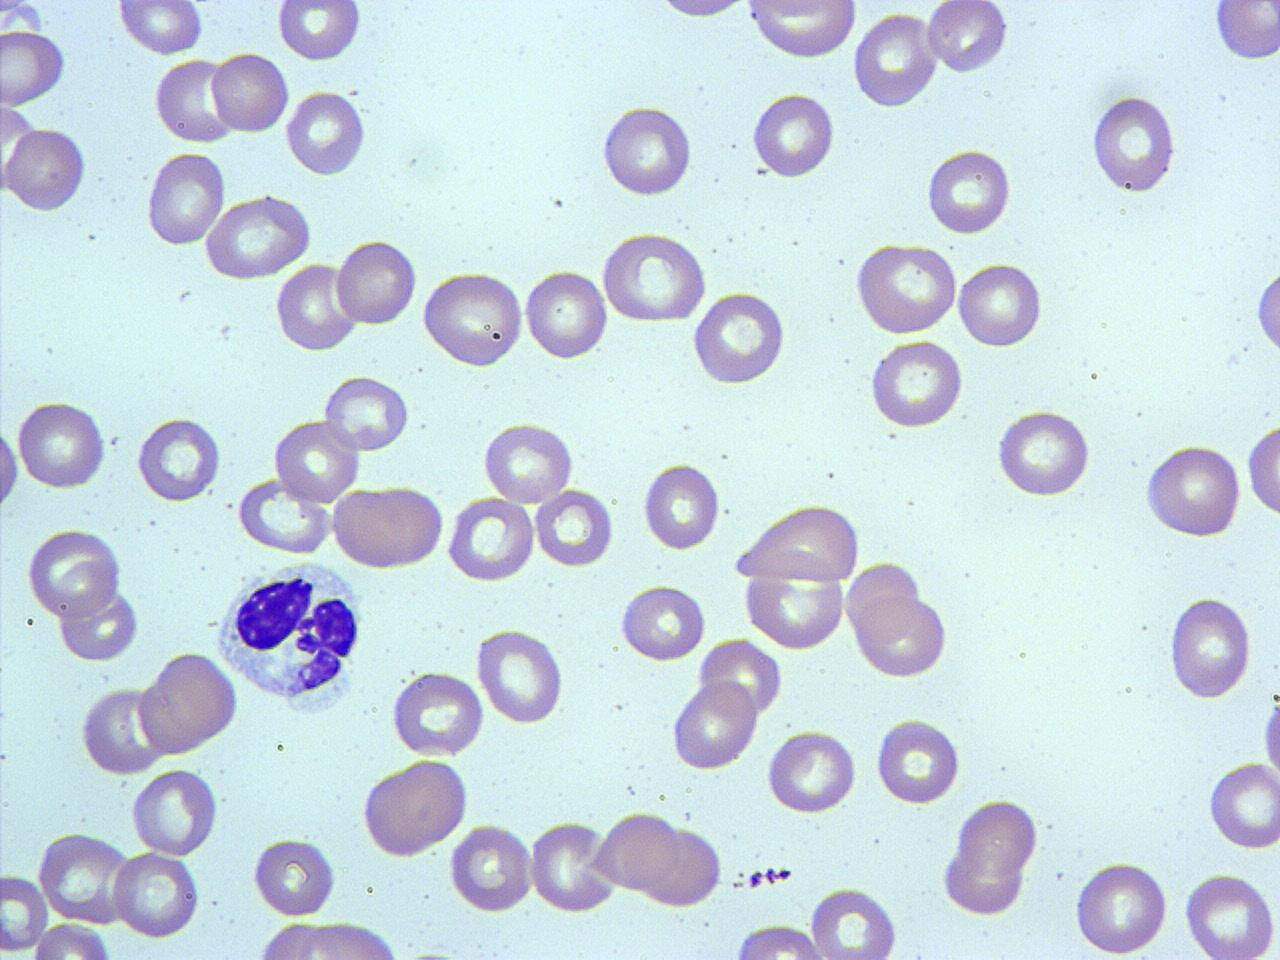Platelets: (403, 940, 464, 960)
RBC: (360, 757, 471, 860), (418, 269, 526, 373), (740, 550, 850, 651), (136, 651, 240, 757), (1140, 440, 1244, 542), (852, 241, 960, 338), (600, 230, 709, 326), (331, 482, 448, 570), (748, 501, 862, 588), (1071, 858, 1171, 957), (203, 193, 314, 282), (1088, 90, 1180, 196), (690, 290, 790, 387), (1167, 593, 1255, 702), (23, 526, 125, 620), (34, 828, 133, 924), (992, 409, 1096, 500), (474, 626, 568, 726), (599, 102, 695, 199), (866, 340, 967, 432), (850, 590, 952, 681), (850, 9, 940, 110), (528, 816, 618, 916), (16, 396, 108, 493), (669, 676, 760, 774), (522, 264, 610, 364), (764, 726, 860, 817), (388, 670, 487, 758), (143, 148, 228, 250), (1182, 870, 1278, 960), (111, 848, 202, 942), (128, 766, 220, 858), (478, 418, 576, 504), (444, 493, 536, 584), (874, 714, 964, 806), (924, 147, 1016, 237), (78, 684, 167, 777), (956, 258, 1044, 352), (448, 820, 534, 916), (235, 474, 335, 556), (594, 806, 682, 898), (750, 89, 838, 181), (273, 261, 359, 355), (134, 413, 222, 504), (334, 236, 418, 330), (3, 124, 88, 216), (284, 87, 368, 180), (273, 416, 362, 503), (641, 458, 721, 554), (618, 580, 708, 664), (152, 56, 235, 146), (320, 374, 412, 454), (251, 833, 338, 917), (806, 884, 900, 960), (209, 49, 290, 137), (1206, 756, 1280, 852), (534, 486, 616, 571), (58, 584, 142, 666), (642, 824, 724, 908), (954, 796, 1039, 876), (743, 0, 858, 58), (942, 842, 1027, 918), (926, 0, 1011, 76), (245, 918, 406, 958), (0, 26, 68, 110), (274, 2, 367, 63), (115, 0, 206, 56), (1, 870, 53, 956), (1212, 0, 1280, 64), (728, 922, 835, 958), (1245, 417, 1279, 524), (27, 920, 116, 960), (1251, 259, 1279, 362), (650, 0, 757, 24), (0, 414, 22, 526)
WBC: (208, 554, 367, 716)
